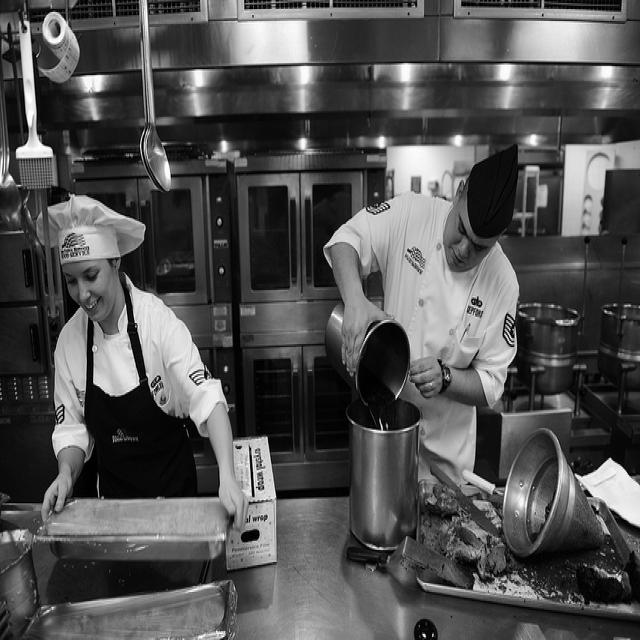monkey: (34, 195, 252, 533), (320, 145, 522, 482)
